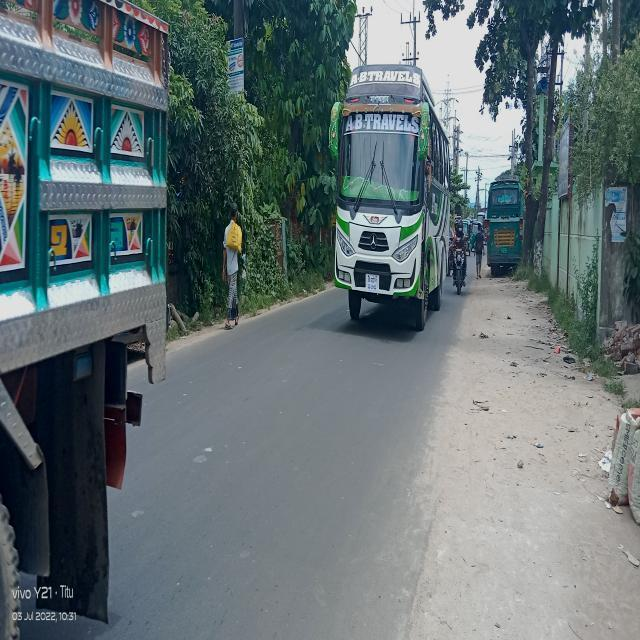Bus: (318, 56, 457, 337)
